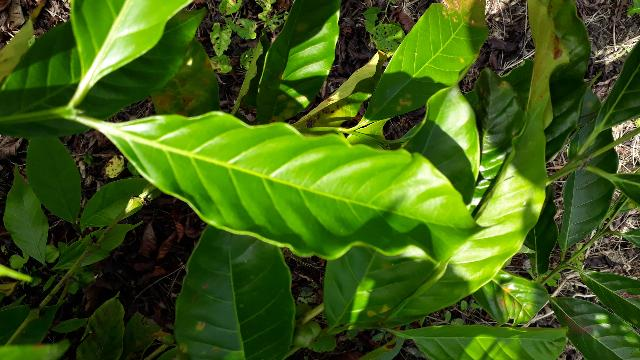healthy: (108, 109, 507, 267)
